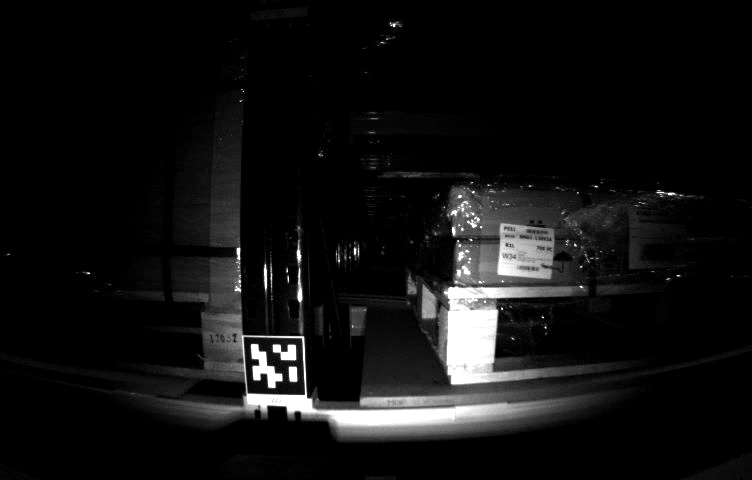True Barcode: (496, 218, 558, 282)
